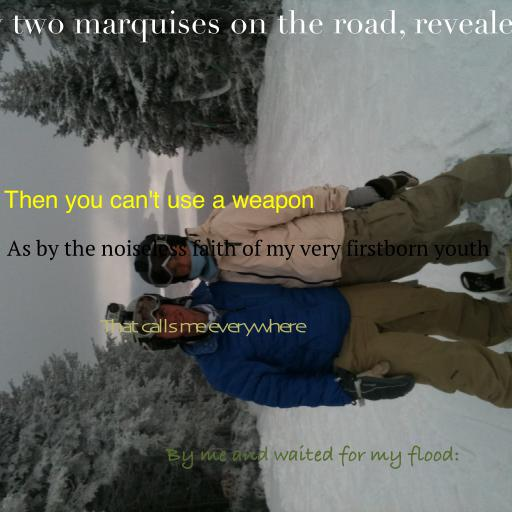Bradley Hand: (166, 444, 460, 469)
Didot: (0, 10, 512, 43)
Impact: (4, 190, 314, 214)
PT Serif: (6, 239, 490, 261)
Skia: (100, 319, 304, 337)
